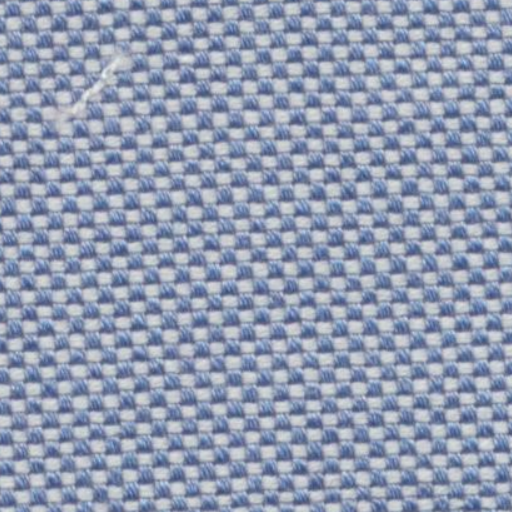DuanSha: (52, 46, 136, 124)
